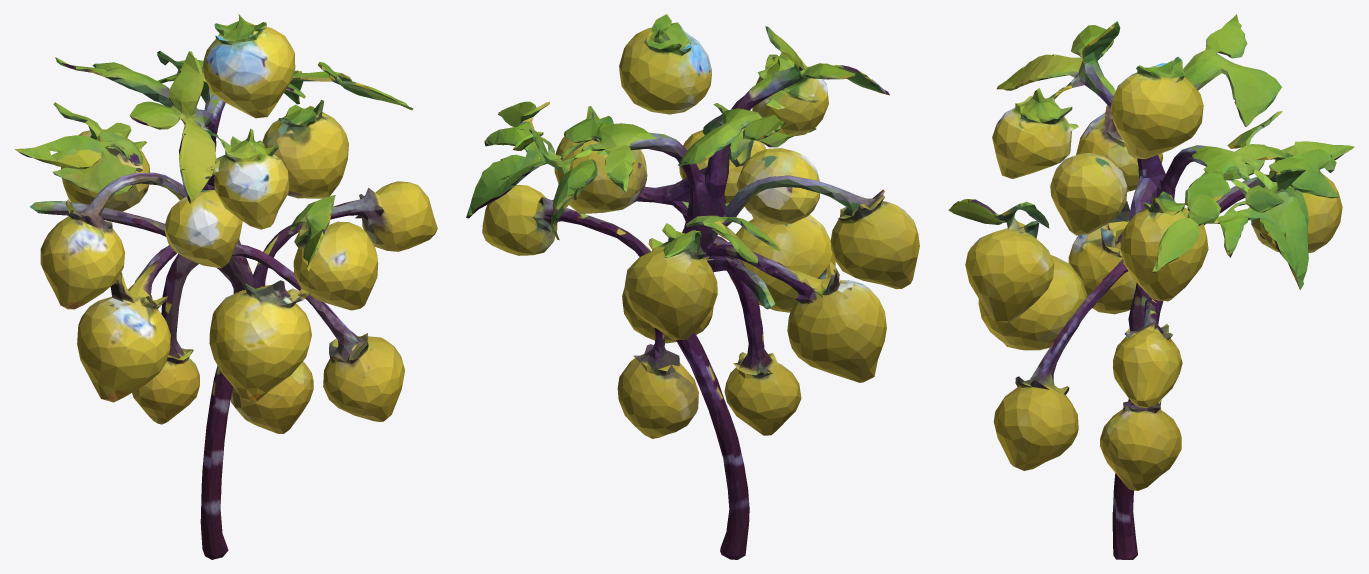
File: winterberry.glb
3 renders of one model, left to right at view 1: azimuth 30°, elevation 25°; view 2: azimuth 150°, elevation 25°; view 3: azimuth 270°, elevation 25°, orthographic. The views are drawn at different scales.
Parts seen in each view (by area): view 1: tmp5ec0jr8i.ply; view 2: tmp5ec0jr8i.ply; view 3: tmp5ec0jr8i.ply.
Part boxes in pixels (box(x1,y1,x2,y2)): tmp5ec0jr8i.ply: box(14, 14, 437, 559); tmp5ec0jr8i.ply: box(466, 14, 919, 559); tmp5ec0jr8i.ply: box(948, 14, 1354, 559).
Size of the model in its own units: 1.63 by 1.99 by 1.4.
1 material, 1 textured.
